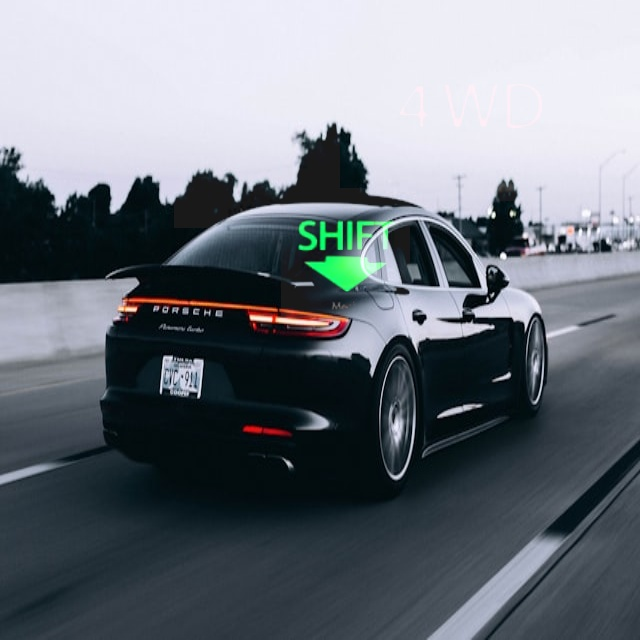symbol: (377, 15, 563, 201), (174, 62, 340, 228), (281, 188, 410, 317)
